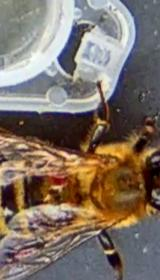varroa_mite: (48, 162, 72, 190)
